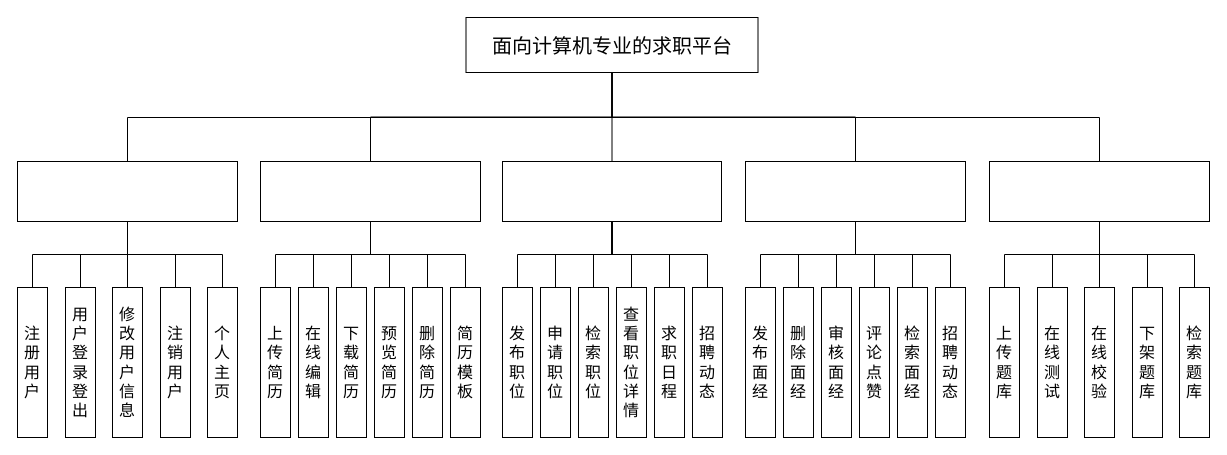
The diagram is 1227 pixels wide and 455 high, and some of its shapes have lost their labels. Each missing label, with the box of its shape:
求职模块: (502, 160, 722, 222)
用户模块: (16, 160, 238, 222)
简历模块: (260, 160, 480, 222)
面经模块: (744, 160, 966, 222)
题库模块: (988, 160, 1210, 222)
